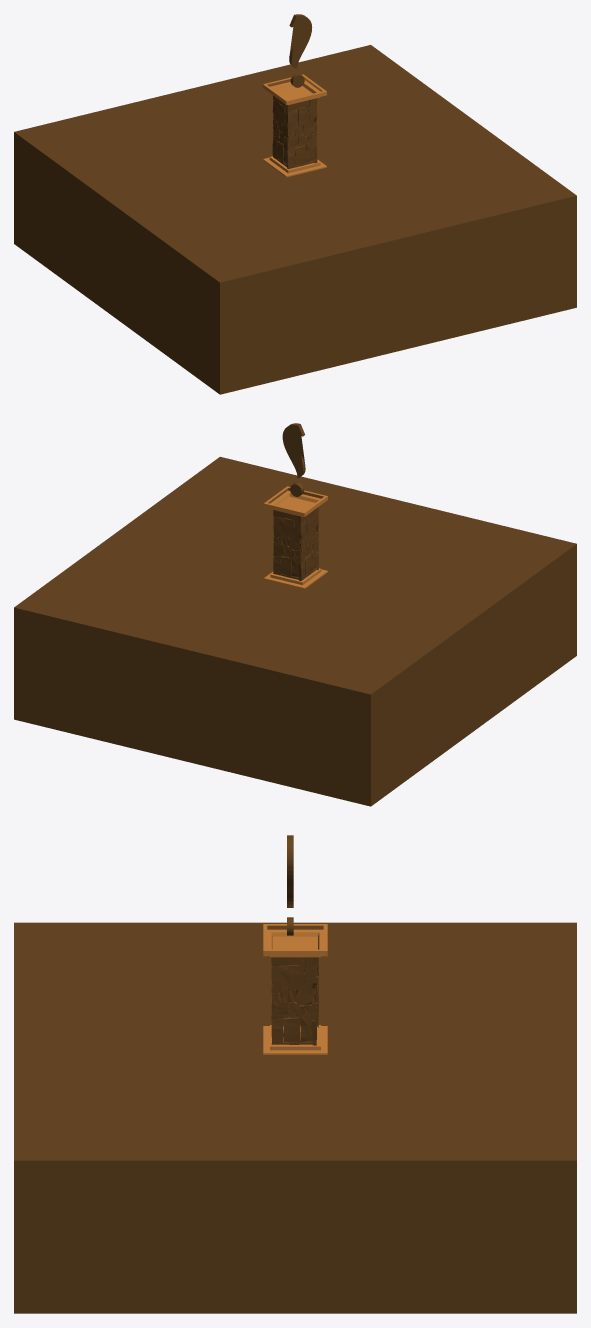
The model's file is rr1_cover.fbx.
3 views of the same model, one above another, from view 1: azimuth 30°, elevation 25°; view 2: azimuth 150°, elevation 25°; view 3: azimuth 270°, elevation 25° (orthographic). The views are drawn at different scales.
Parts seen in each view (by area): view 1: Cover.006; view 2: Cover.006; view 3: Cover.006.
Boxes of the visible parts, x1,y1,x2,y2 form: Cover.006: [14, 14, 576, 394]; Cover.006: [14, 423, 576, 806]; Cover.006: [14, 835, 576, 1313].
Size of the model in its own units: 11.08 by 7.77 by 11.08.
